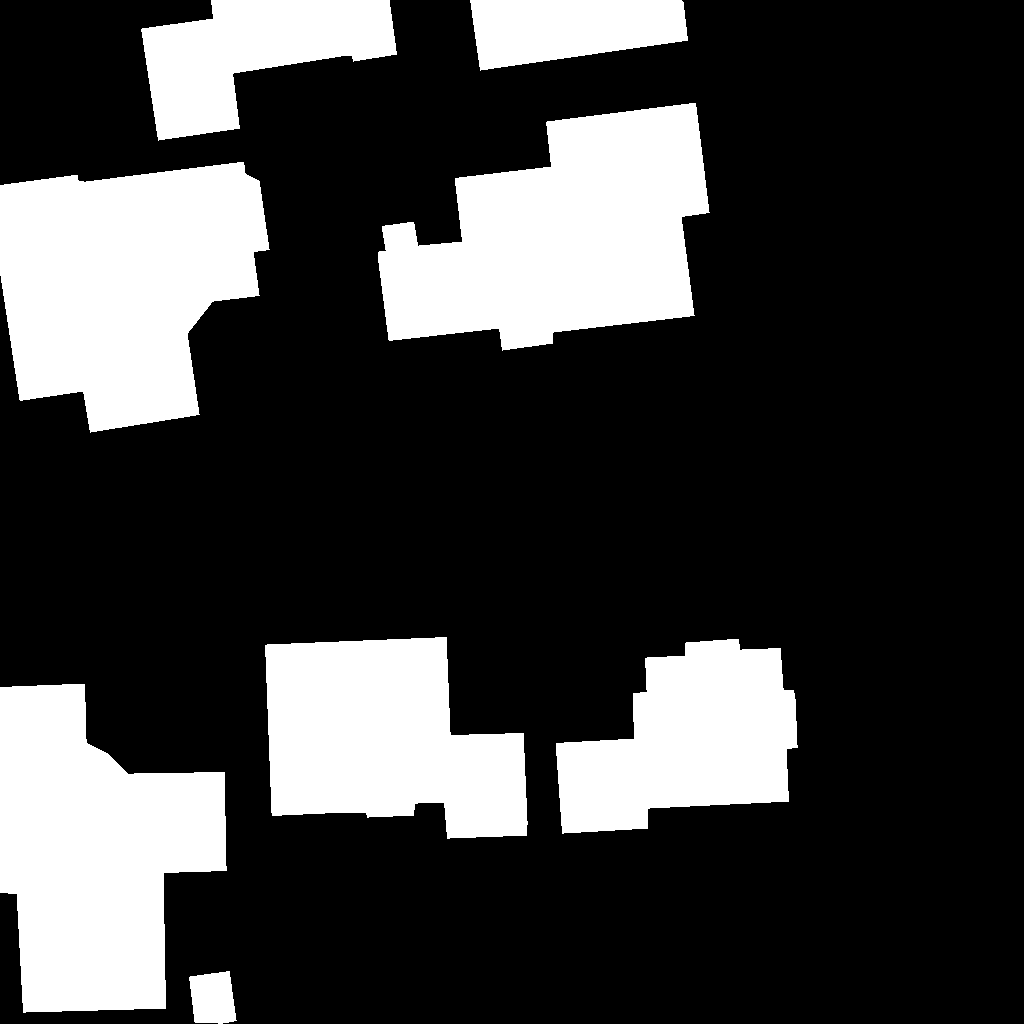building: (378, 103, 710, 351), (0, 684, 227, 1013), (0, 162, 270, 433), (265, 637, 528, 839), (556, 639, 798, 834), (141, 0, 398, 141), (470, 0, 689, 71), (189, 971, 237, 1024)
